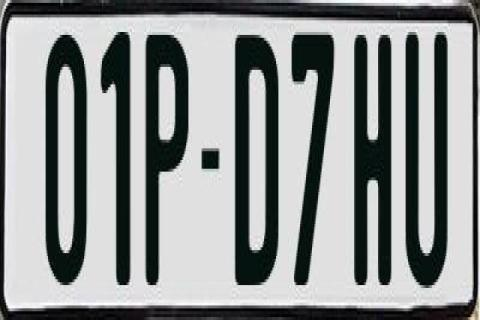0: (44, 29, 90, 285), (290, 32, 332, 288), (101, 24, 135, 288)
D: (236, 29, 286, 297)
H: (351, 32, 389, 300)
P: (144, 32, 188, 285)
U: (402, 26, 444, 288)
